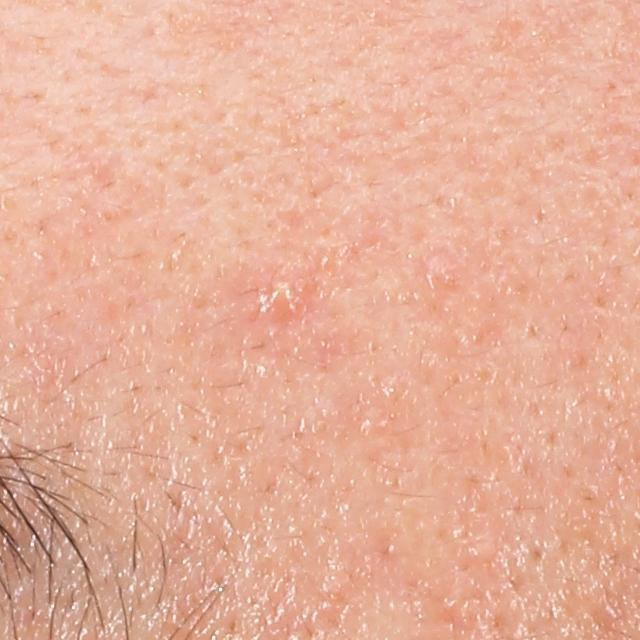pustule: (262, 266, 304, 314)
